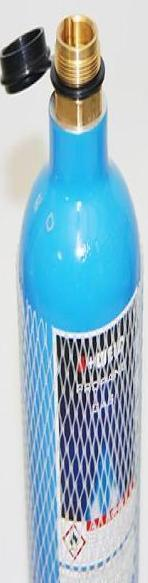cylinder: (0, 1, 148, 583)
